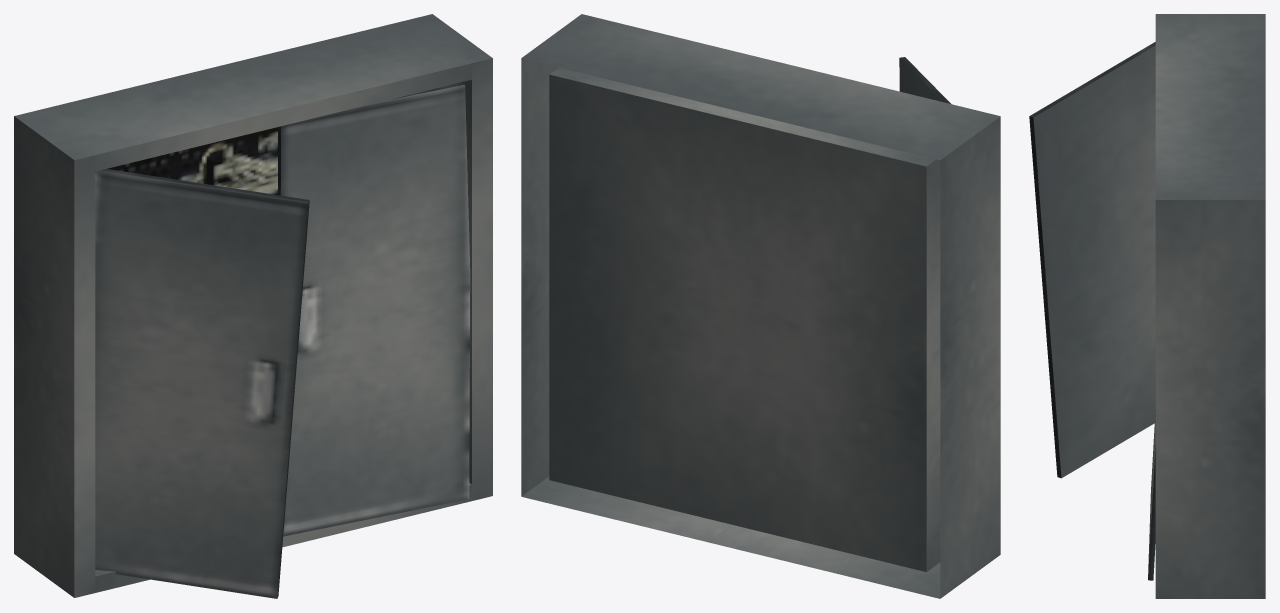
Rendered from SM_PROP_METALBOX_03.fbx.
3 renders of one model, left to right at view 1: azimuth 30°, elevation 25°; view 2: azimuth 150°, elevation 25°; view 3: azimuth 270°, elevation 25°, orthographic. The views are drawn at different scales.
Parts seen in each view (by area): view 1: SM_PROP_METALBOX_03; view 2: SM_PROP_METALBOX_03; view 3: SM_PROP_METALBOX_03.
Boxes of the visible parts, box(x1,y1,x2,y2) form: SM_PROP_METALBOX_03: box(14, 14, 492, 598); SM_PROP_METALBOX_03: box(521, 14, 1000, 598); SM_PROP_METALBOX_03: box(1029, 14, 1265, 598).
Bounding box in the file's own units: 0.8 × 0.8 × 0.4297.
